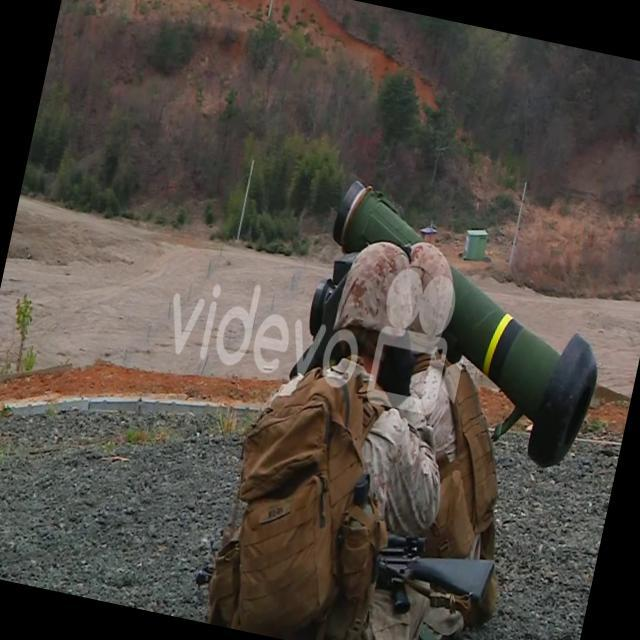rocket: (295, 179, 619, 470)
